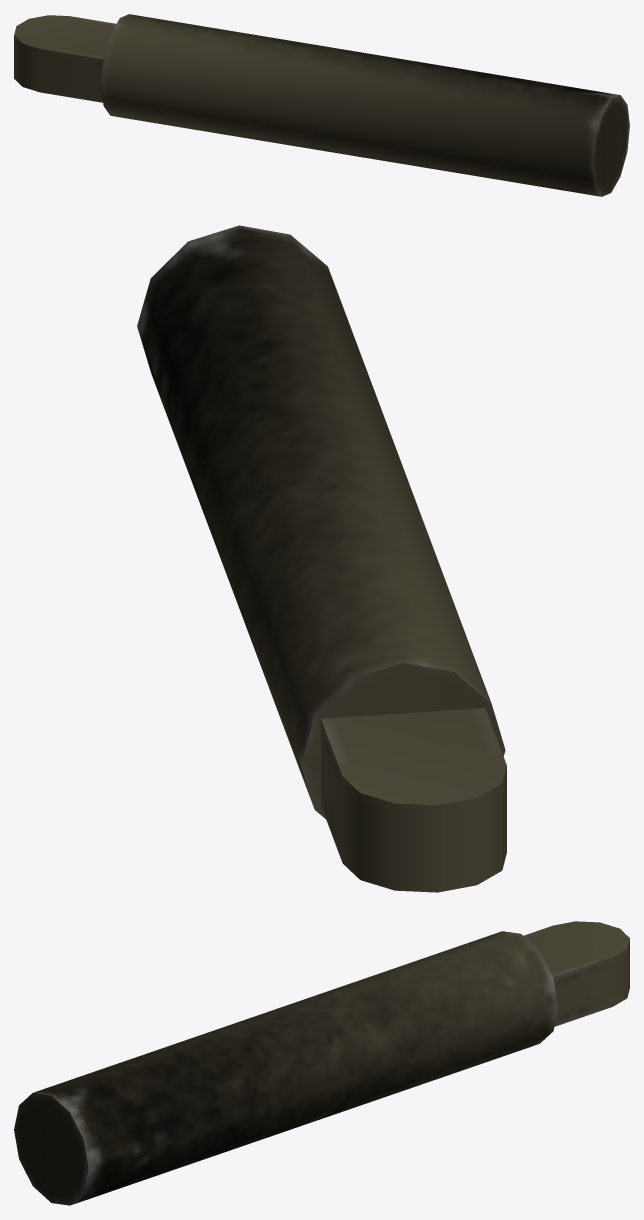
File: boom_cyl_barrel.obj
3 renders of one model, top to bottom at view 1: azimuth 30°, elevation 25°; view 2: azimuth 150°, elevation 25°; view 3: azimuth 270°, elevation 25°, orthographic. The views are drawn at different scales.
Visible parts, largest first — view 1: Piston.006; view 2: Piston.006; view 3: Piston.006.
Boxes of the visible parts, box(x1,y1,x2,y2) form: Piston.006: box(14, 14, 629, 196); Piston.006: box(137, 225, 506, 892); Piston.006: box(14, 921, 629, 1205).
Size of the model in its own units: 0.4449 by 0.1023 by 0.524.
Materials: 1 (1 with a texture image).
